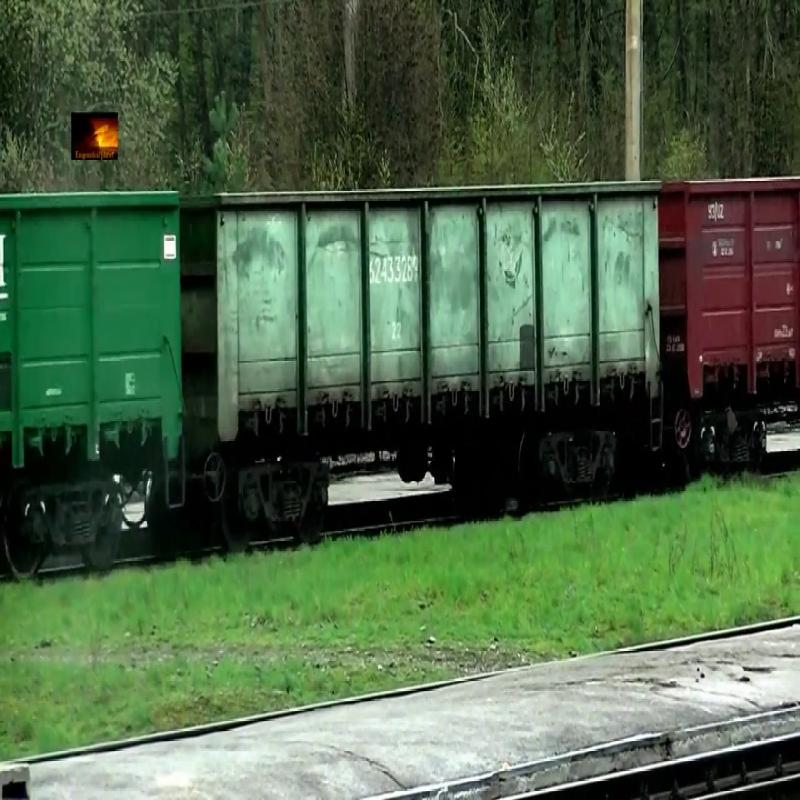train: (186, 181, 663, 458), (1, 190, 183, 492), (659, 175, 800, 407)
